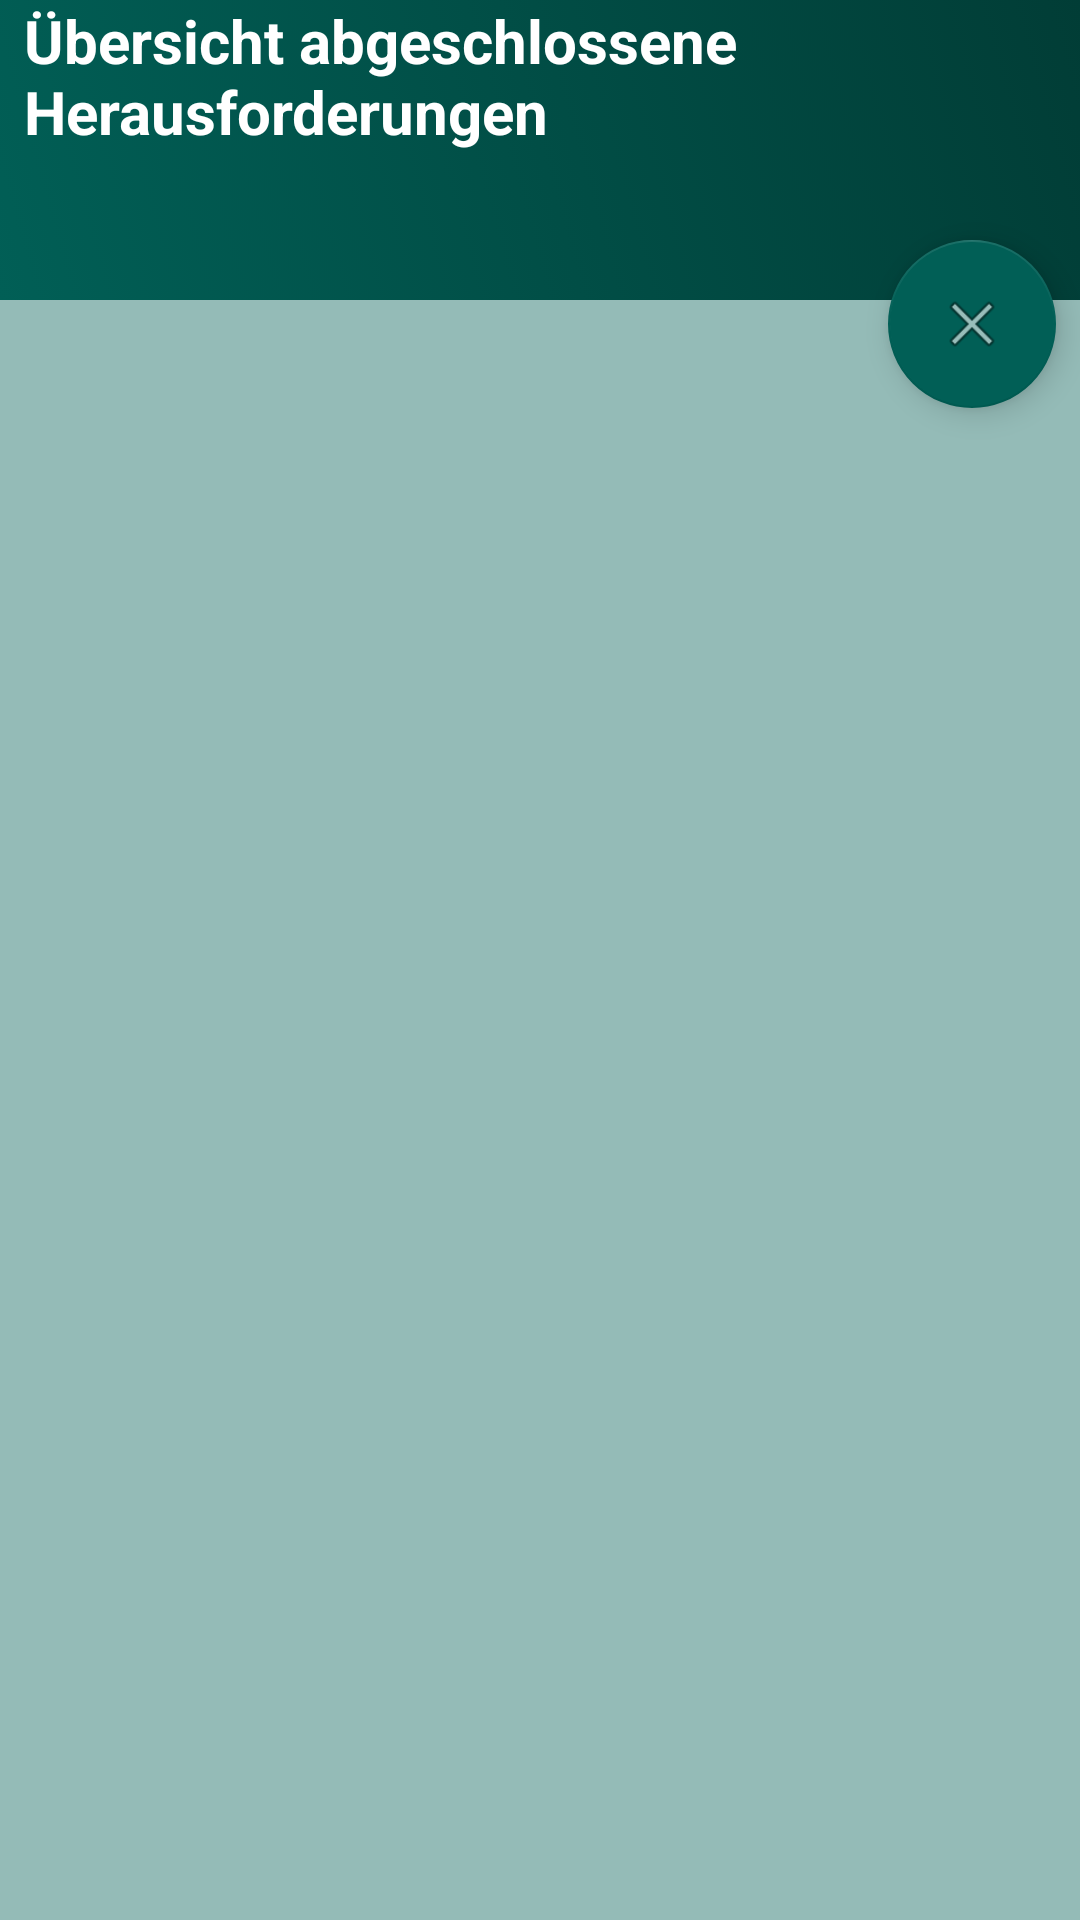

Named icons in this screenshot (1080x1920) and their centers, [x,y]:
close clear cancel: [972,324]
